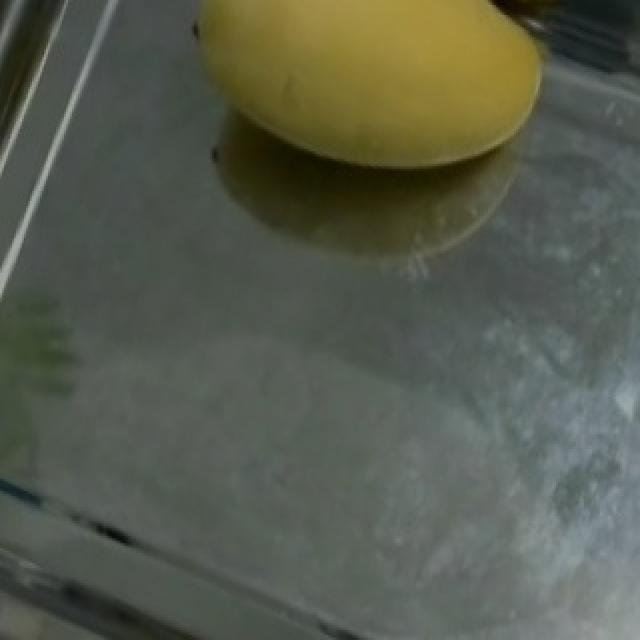fruit: (152, 0, 582, 228)
